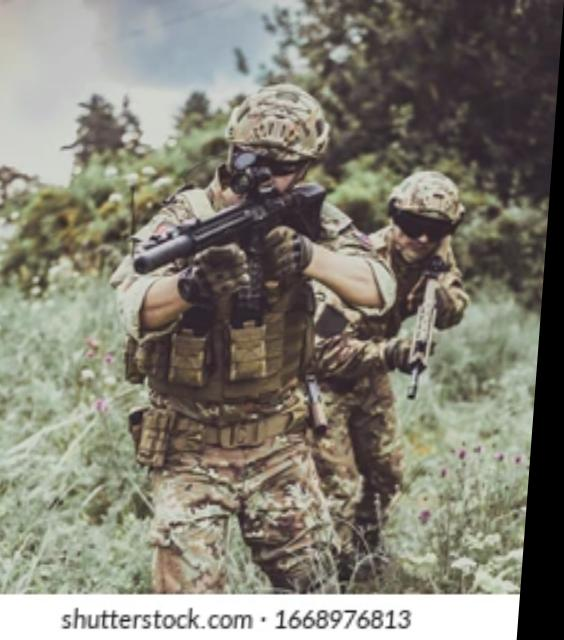other: (120, 98, 352, 590), (307, 176, 457, 544)
